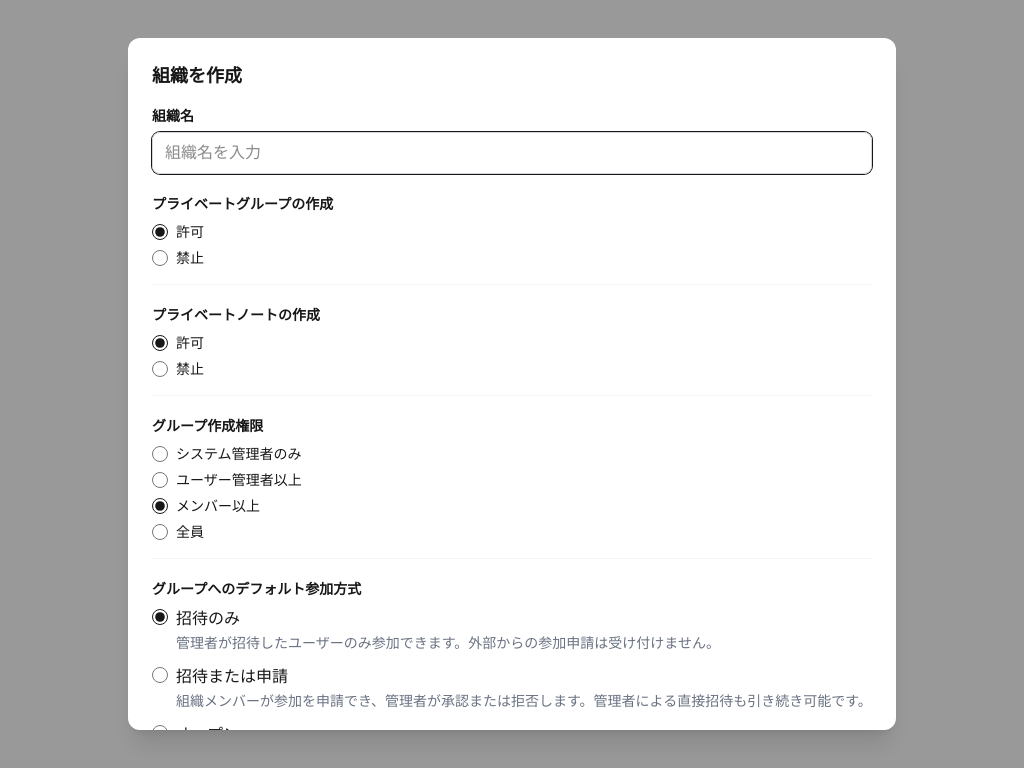
OrgCreateModal › 送信中は「作成中...」と表示され、ボタンが無効化される
In the field with placeholder "組織名を入力": (512, 153) [152, 132, 872, 174], type "研究室A"
(page scrolled)
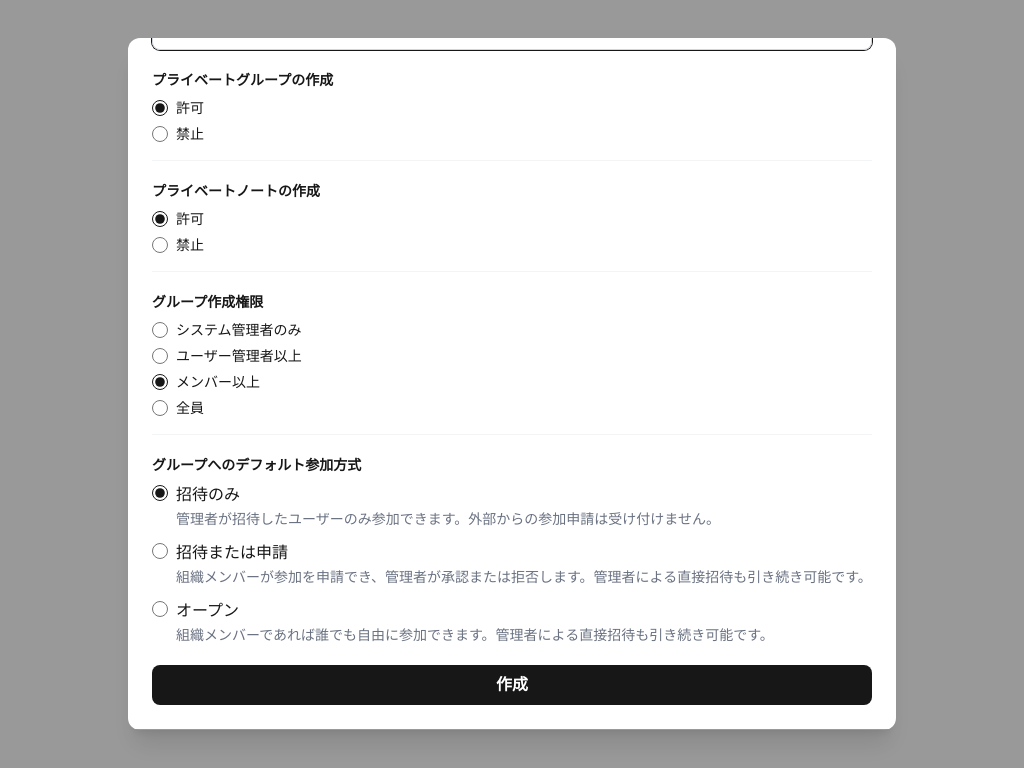
Click the button "作成": (512, 685) [152, 665, 872, 705]
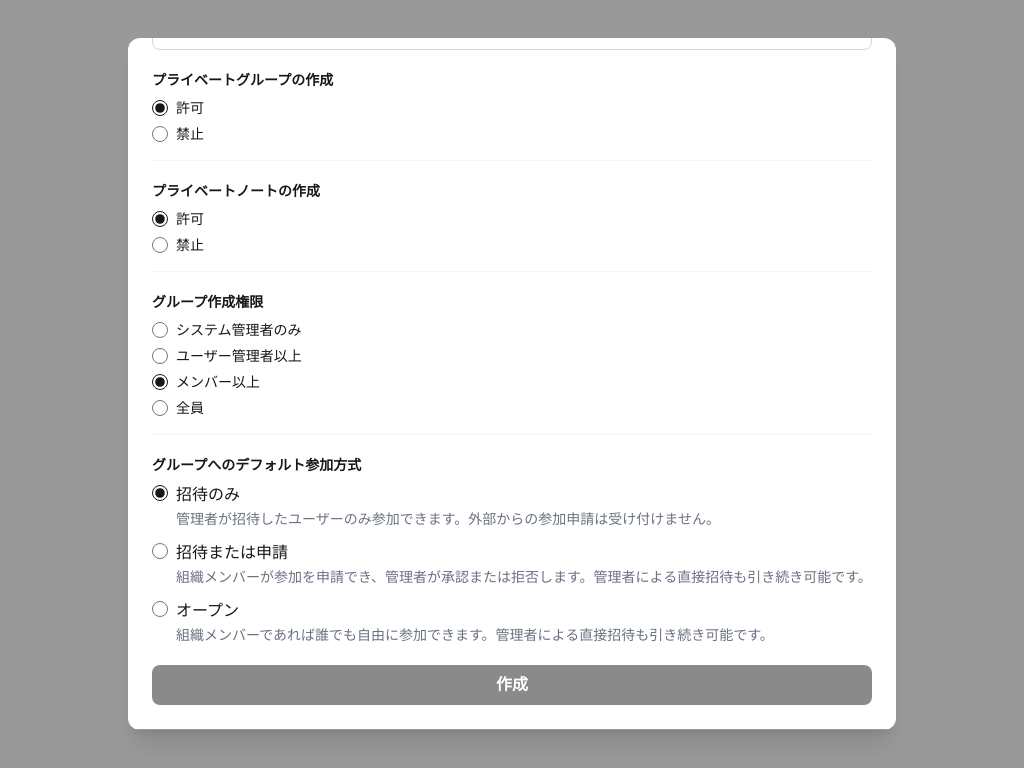
Now the button named "作成中..." is disabled, box [152, 665, 872, 705]
